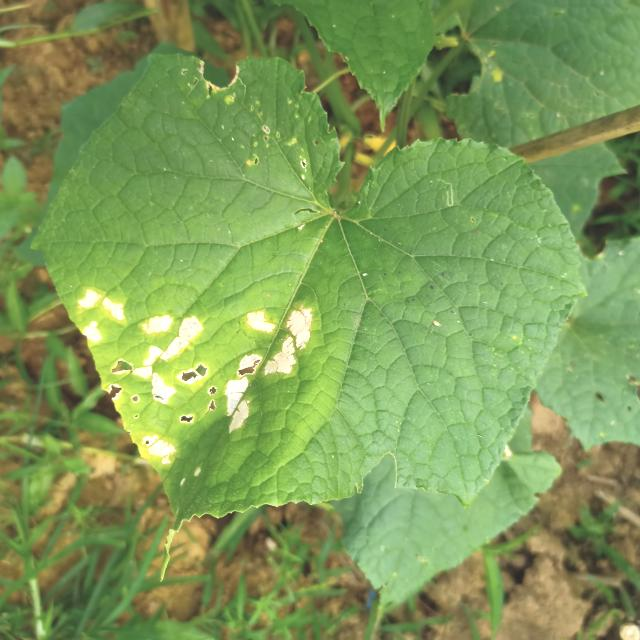disease_cucumber: (64, 286, 326, 488)
